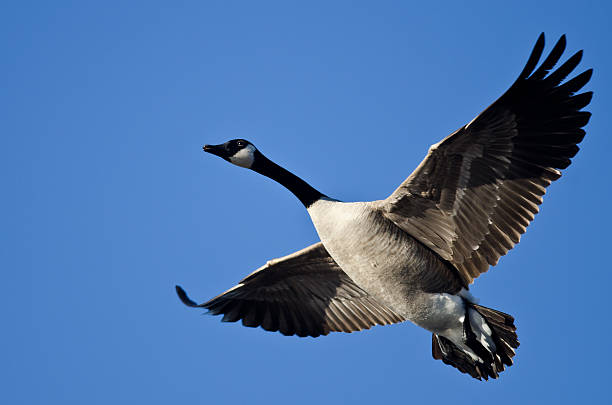goose: (169, 28, 598, 386)
